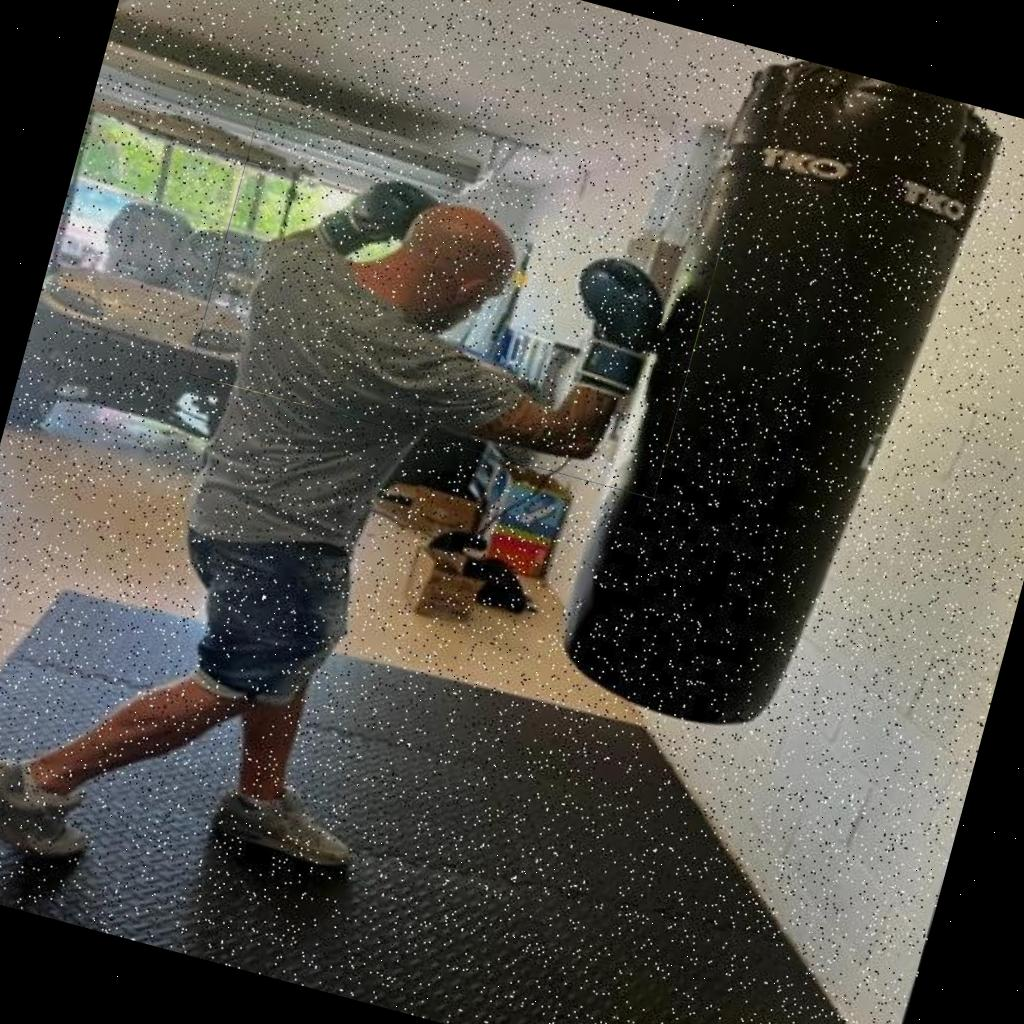uppercut: (190, 63, 737, 498)
